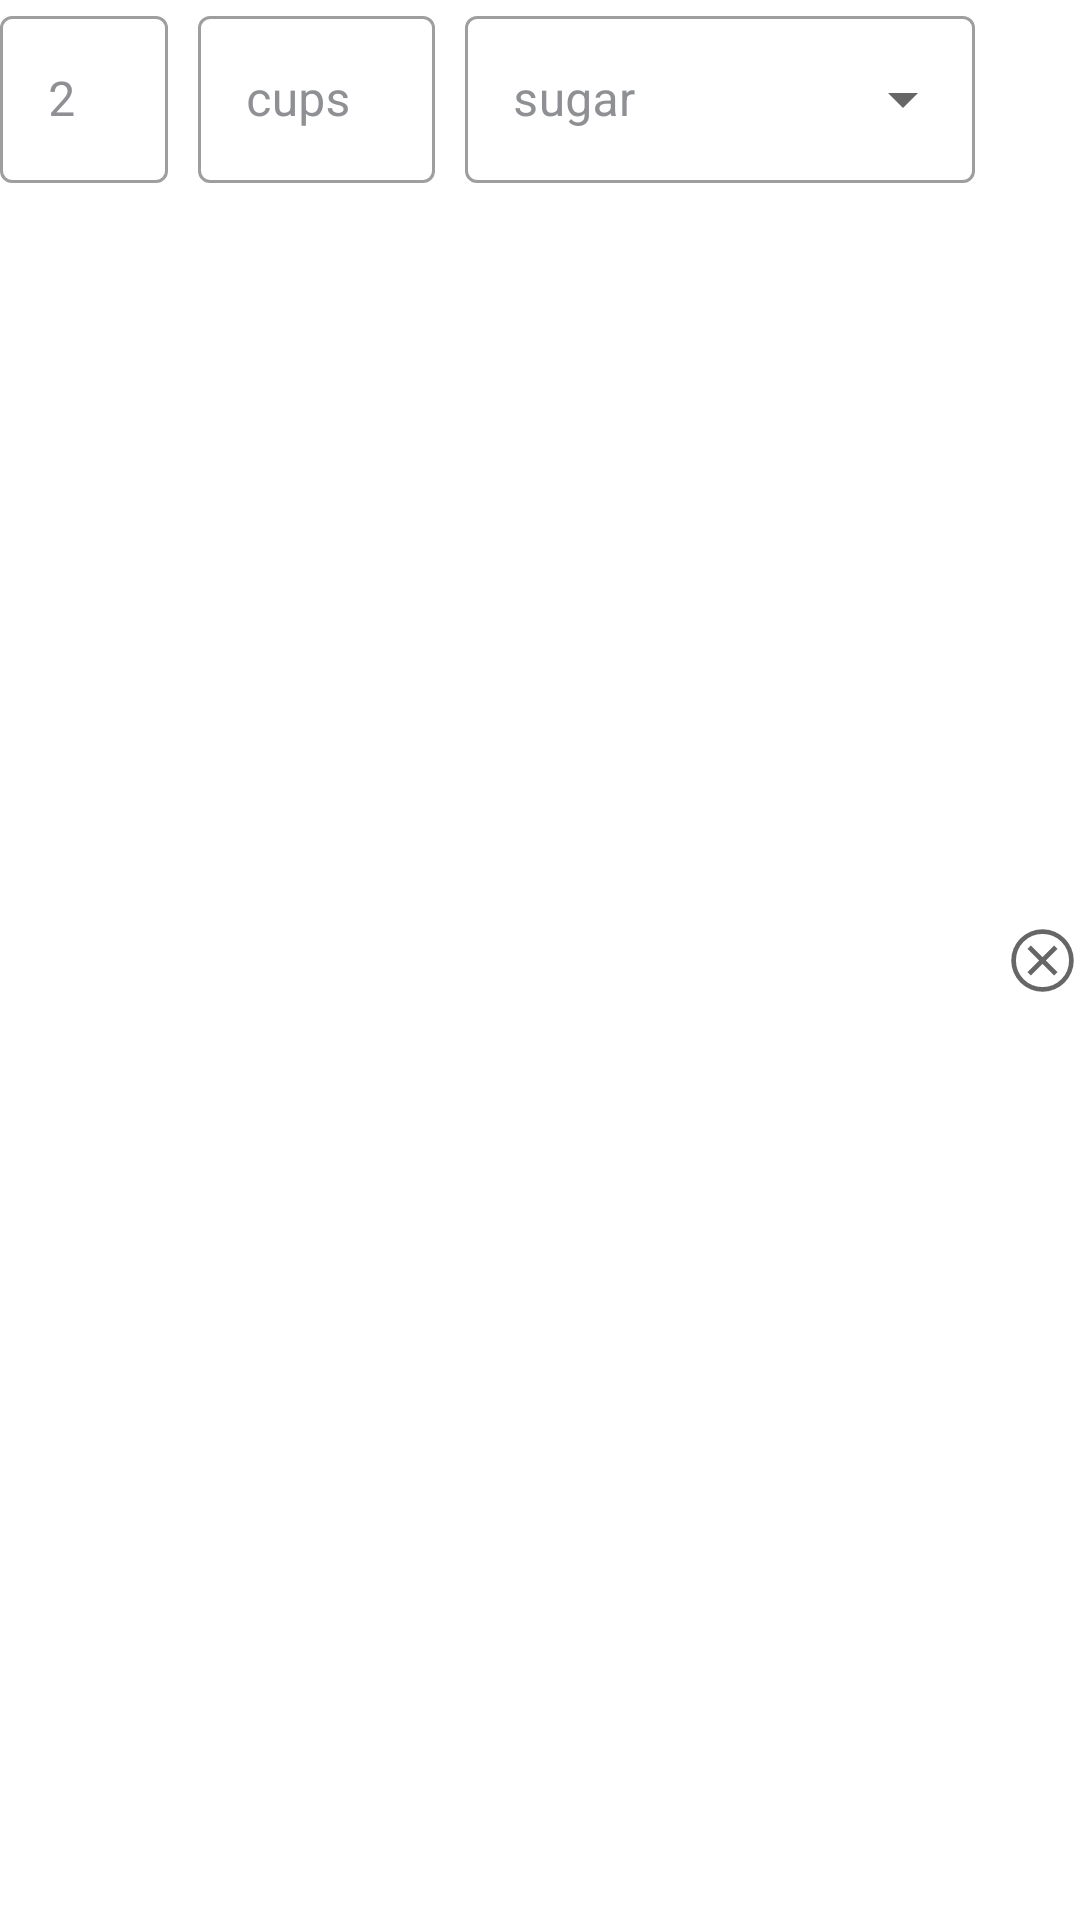

Icon bounding boxes for this 1080*1920 phone screenshot, format rect(x1, y1, x2, y2):
Remove Ingredient: rect(1011, 929, 1074, 992)
